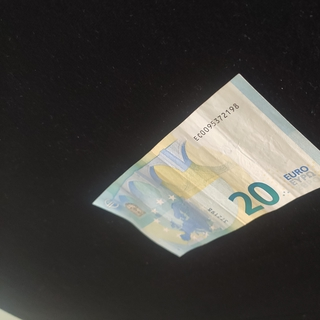20EUROBack: (92, 73, 320, 258)
